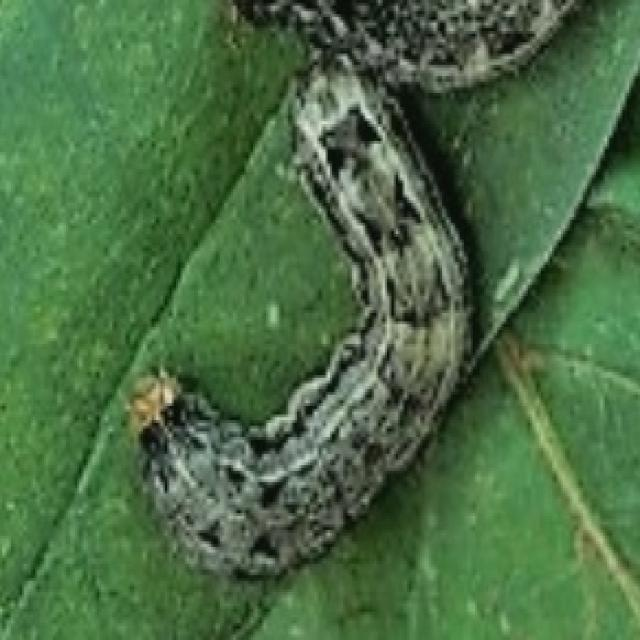armyworm: (120, 52, 507, 584), (222, 0, 640, 82)
